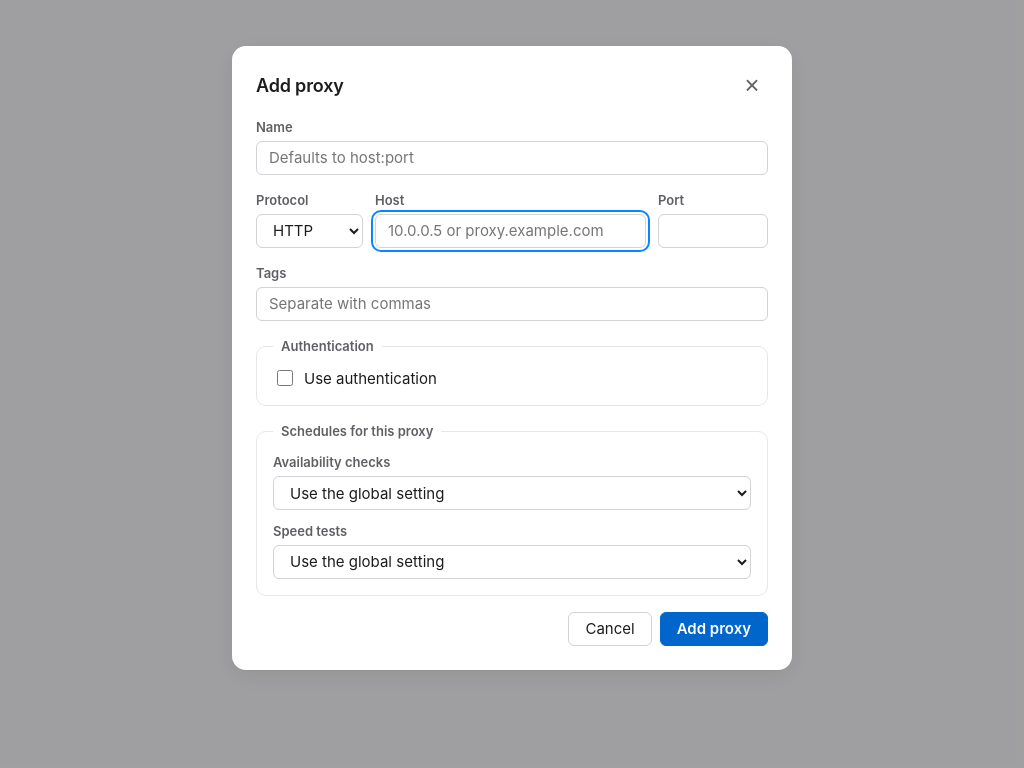
Test case: ProxyDialog › shows server-side field errors next to the fields
This screenshot has width=1024, height=768.
Type "http://bad" into the field labelled "Host".
click(510, 231); type("http://bad")  # box [375,214,646,248]
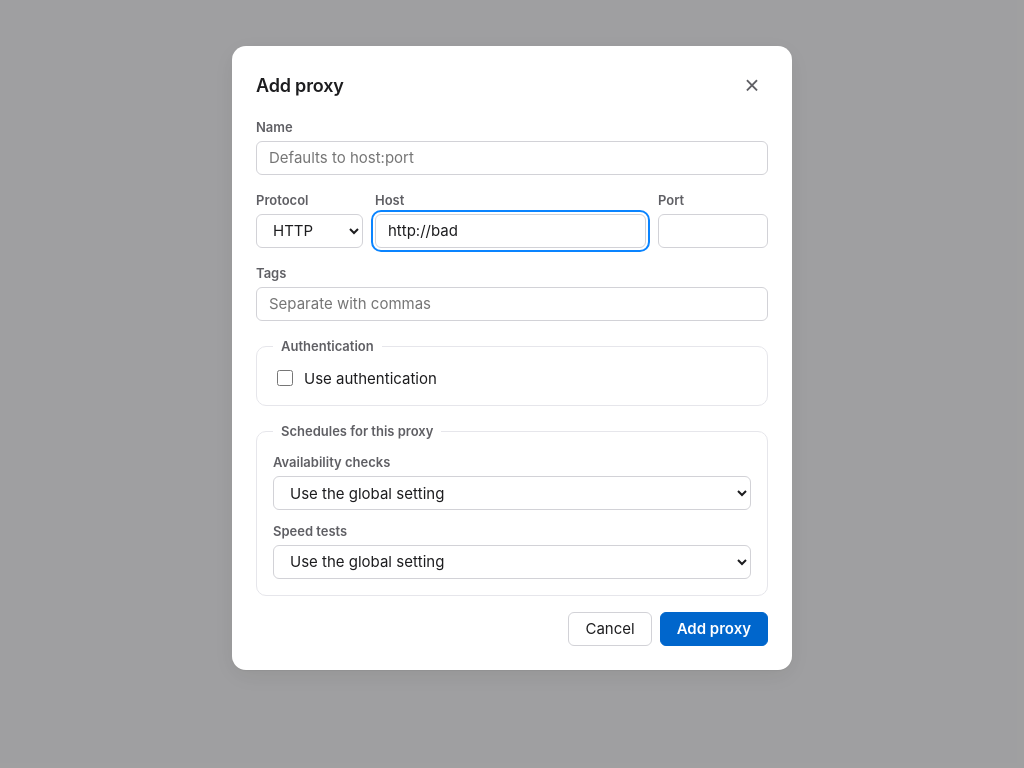
Type "80" into the field labelled "Port".
click(713, 231); type("80")  # box [658,214,768,248]
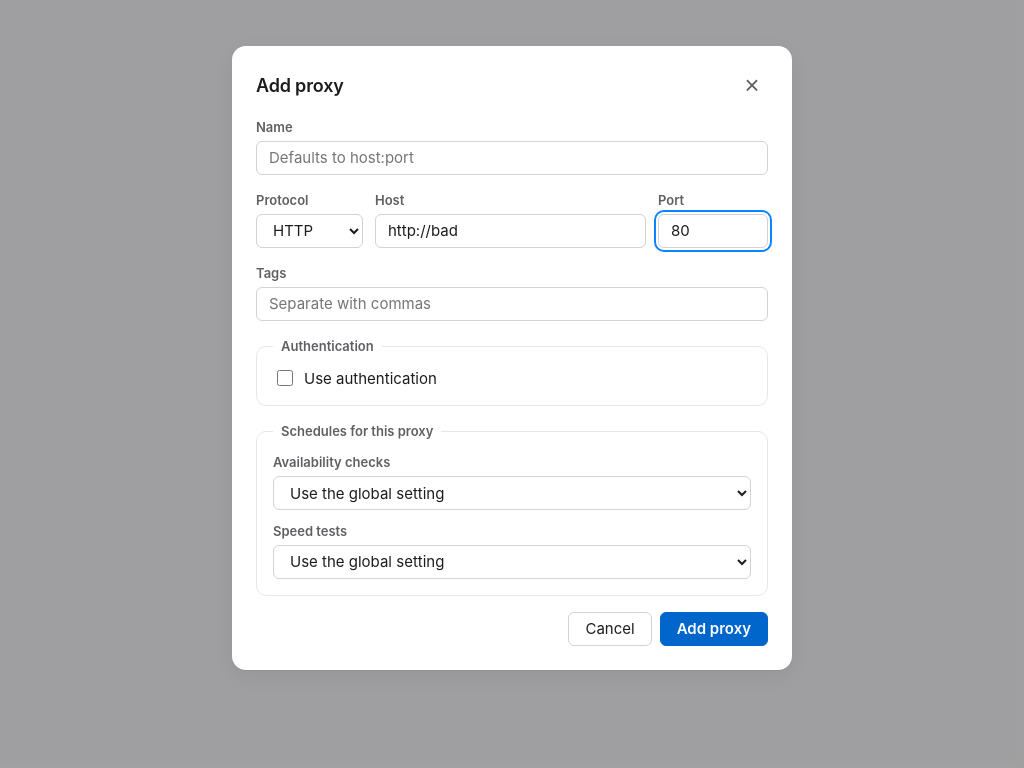
Click the button "Add proxy".
click(714, 629)  # box [660,612,768,646]
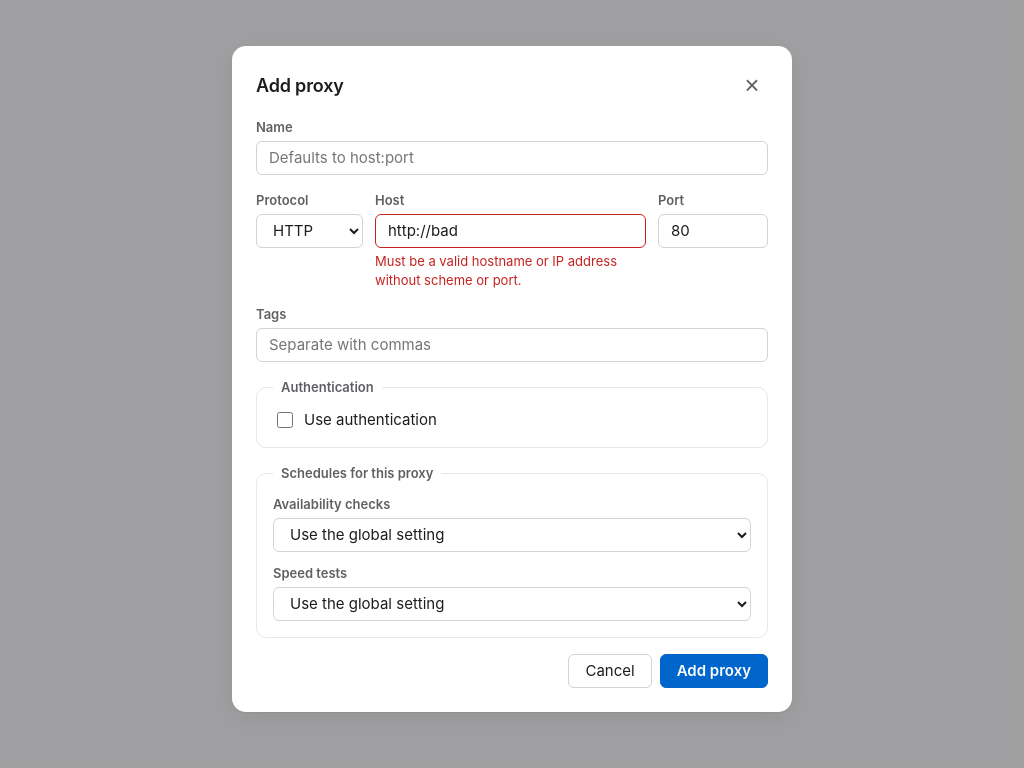
Expected: the text "Must be a valid hostname or IP address without scheme or port." is shown, [375,252,646,290]
